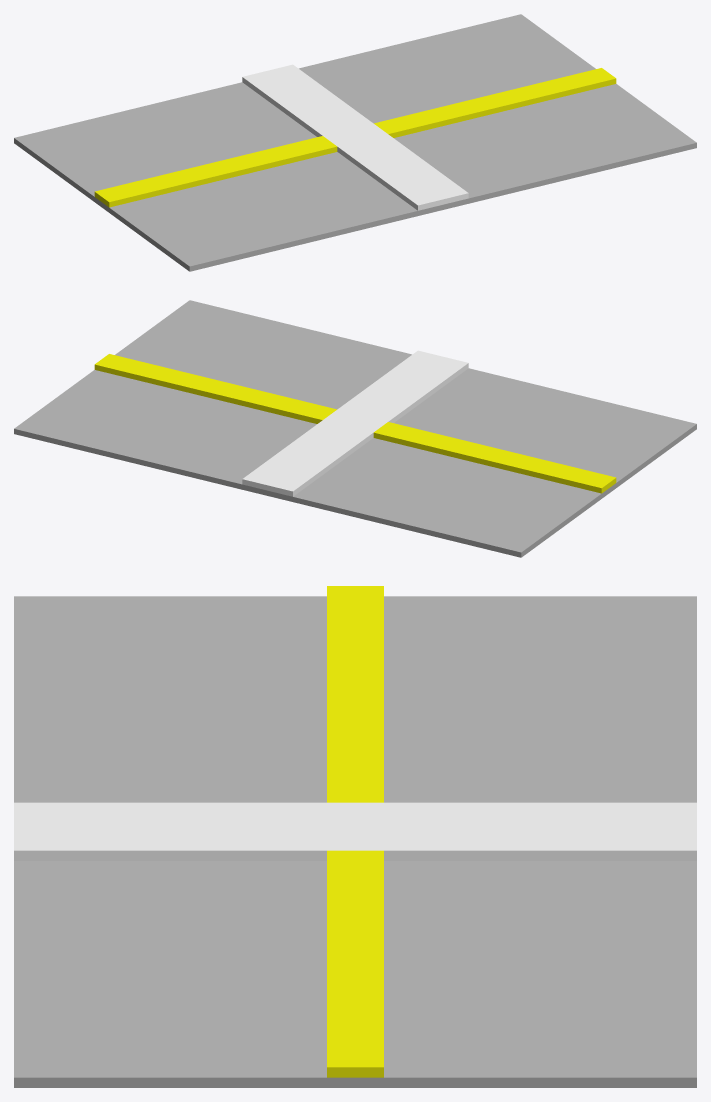
Rendered from road_stop.fbx.
The picture shows the model from 3 angles, top to bottom: view 1: azimuth 30°, elevation 25°; view 2: azimuth 150°, elevation 25°; view 3: azimuth 270°, elevation 25°; orthographic projection. The views are drawn at different scales.
Visible parts, largest first — view 1: Cube, Cube.002, Cube.001; view 2: Cube, Cube.002, Cube.001; view 3: Cube, Cube.002, Cube.001.
Boxes of the visible parts, x1=… form: Cube: x1=14, y1=14, x2=696, y2=271; Cube.002: x1=242, y1=64, x2=468, y2=210; Cube.001: x1=94, y1=68, x2=616, y2=207; Cube: x1=14, y1=300, x2=696, y2=557; Cube.002: x1=242, y1=350, x2=468, y2=496; Cube.001: x1=94, y1=354, x2=616, y2=493; Cube: x1=14, y1=596, x2=696, y2=1087; Cube.002: x1=14, y1=802, x2=696, y2=860; Cube.001: x1=327, y1=586, x2=383, y2=1077.
Bounding box in the file's own units: 2000 × 40 × 1200.
